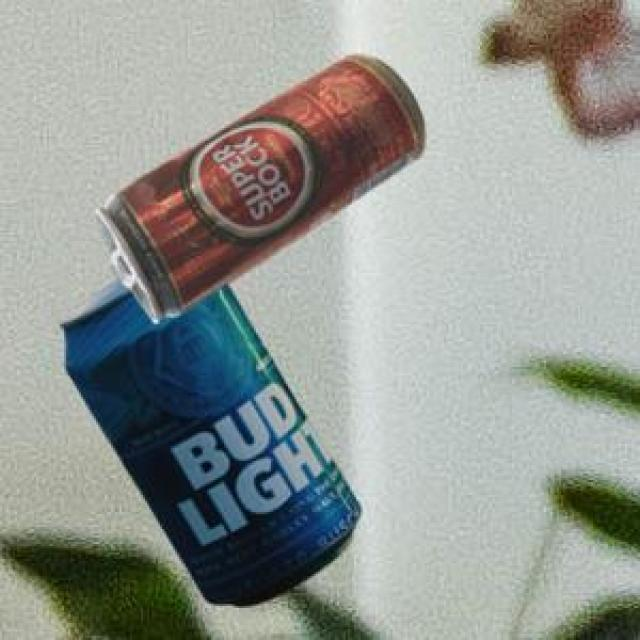Can: (57, 276, 357, 603), (93, 52, 421, 319)
